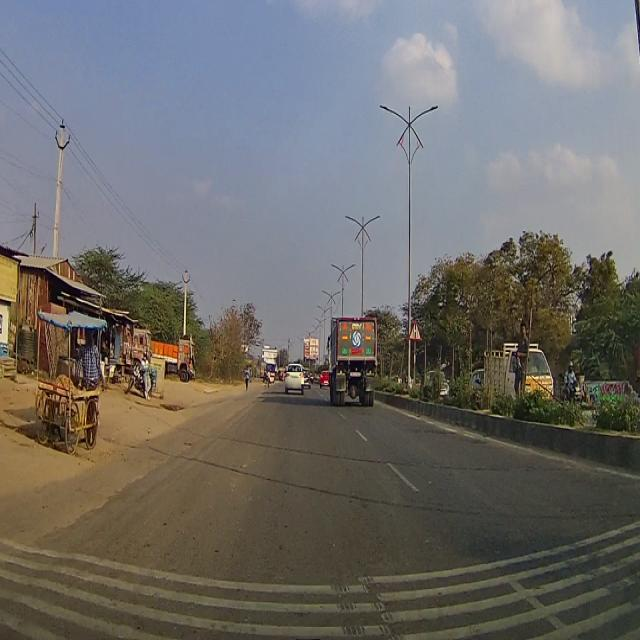gap-in-median: (408, 320, 421, 342)
